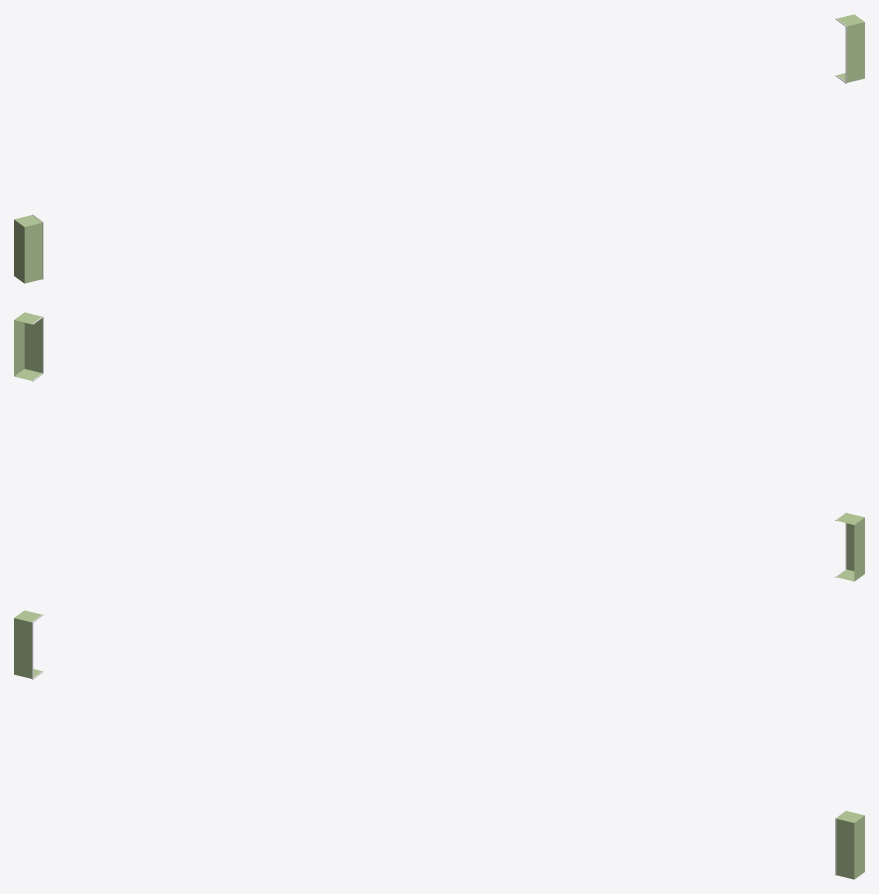
The model's file is goal.glb.
3 renders of one model, top to bottom at view 1: azimuth 30°, elevation 25°; view 2: azimuth 150°, elevation 25°; view 3: azimuth 330°, elevation 25°, orthographic.
Visible parts, largest first — view 1: goals; view 2: goals; view 3: goals.
Boxes of the visible parts, x1,y1,x2,y2 form: goals: (14, 14, 864, 283); goals: (14, 312, 864, 581); goals: (14, 610, 864, 879).
Size of the model in its own units: 115 by 7.52 by 2.54.
Materials: 2 (1 with a texture image).
